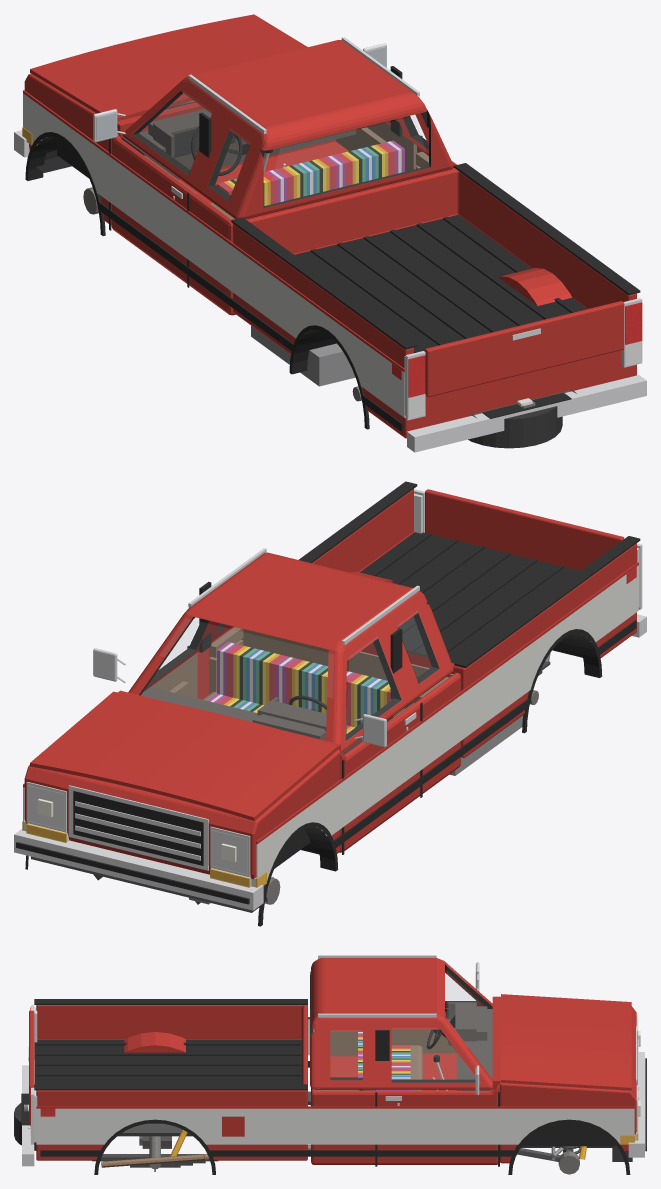
Rendered from pickup_body.glb.
The picture shows the model from 3 angles, top to bottom: view 1: azimuth 30°, elevation 25°; view 2: azimuth 150°, elevation 25°; view 3: azimuth 270°, elevation 25°; orthographic projection. The views are drawn at different scales.
Parts seen in each view (by area): view 1: Body, Hood, Tailgate; view 2: Body, Hood, Tailgate; view 3: Body, Hood, AxleR, Tailgate, AxleF.
Part boxes in pixels (x1,y1,x2,y2): Body: (14, 37, 646, 452); Hood: (30, 14, 307, 121); Tailgate: (425, 301, 624, 397); Body: (14, 481, 646, 926); Hood: (30, 691, 337, 820); Tailgate: (425, 489, 624, 570); Body: (14, 955, 646, 1174); Hood: (501, 994, 631, 1090); AxleR: (139, 1136, 171, 1169); Tailgate: (28, 1010, 34, 1121); AxleF: (551, 1146, 579, 1174).
Bounding box in the file's own units: 2.52 × 1.72 × 6.02.
